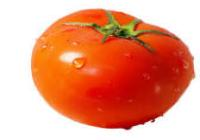tomato: (28, 2, 197, 135)
